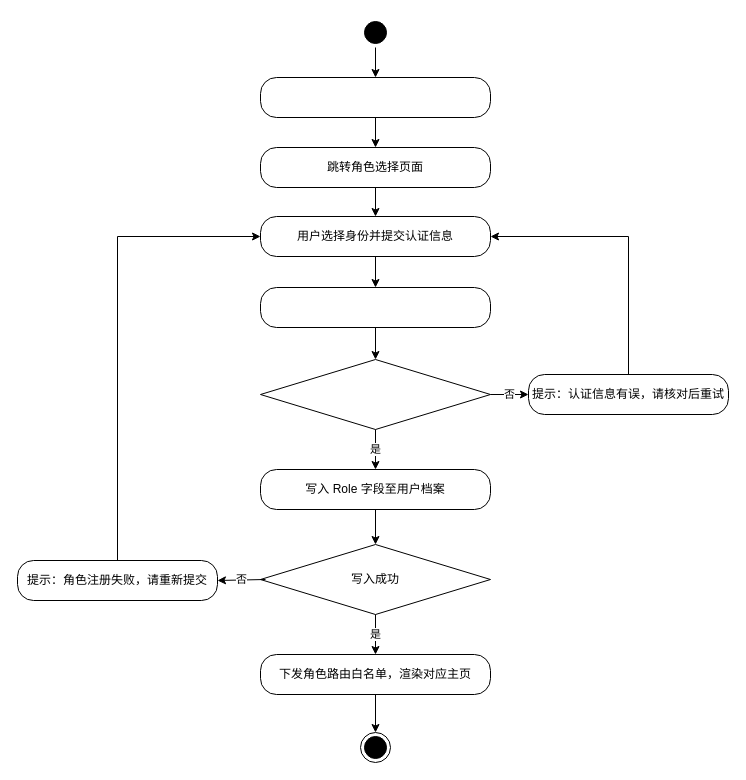
Some shapes in this 746 by 780 pixel diagram are drawn without their labels. Here are the shapes that lost their labels. From the top down, the centre of each, then its label:
point (375, 97): 首次登录成功，检测角色字段为空
point (375, 307): 服务端比对白名单，校验认证信息
point (375, 394): 认证信息合法
